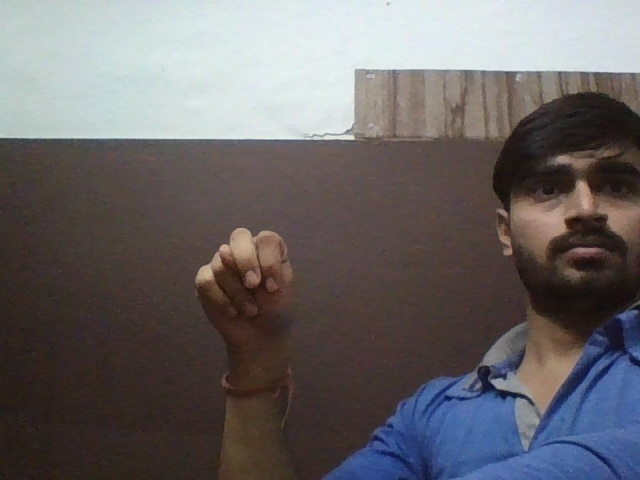N: (154, 224, 322, 356)
